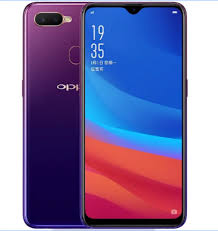oppo: (20, 1, 191, 228), (79, 1, 188, 228), (22, 1, 81, 229)
